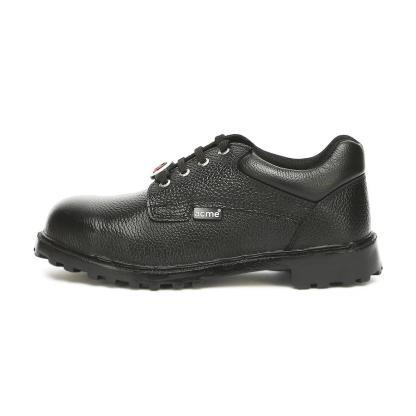bota: (29, 131, 387, 292)
